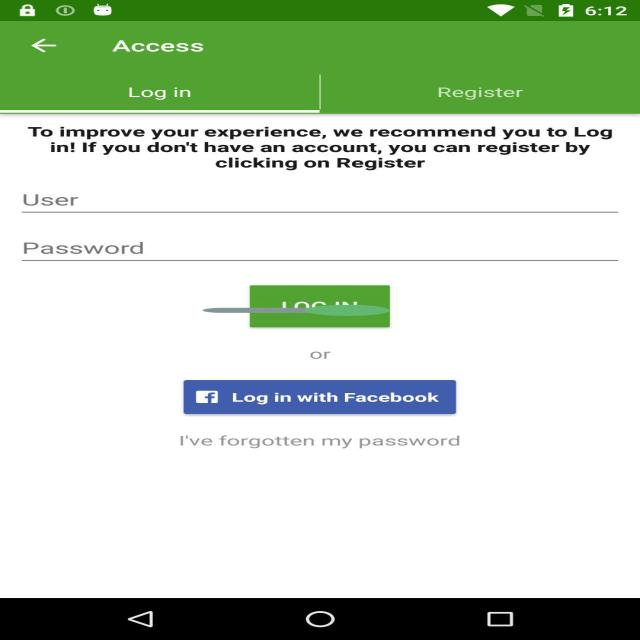social proof: (203, 298, 389, 323)
